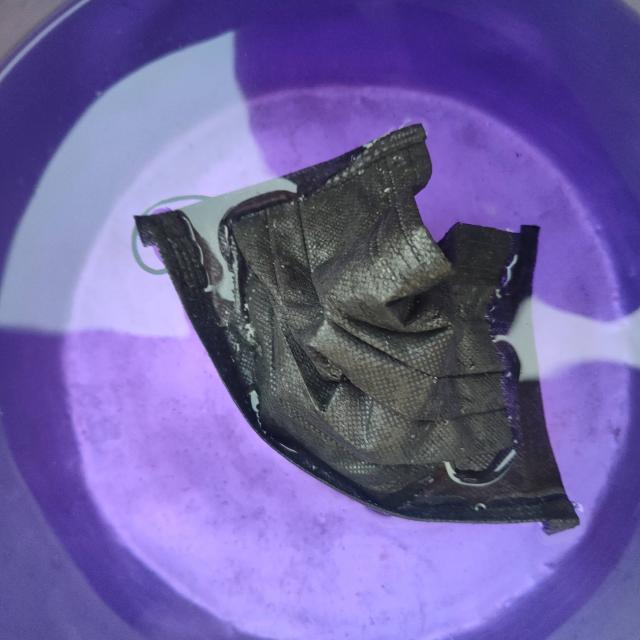mask: (124, 139, 640, 557)
